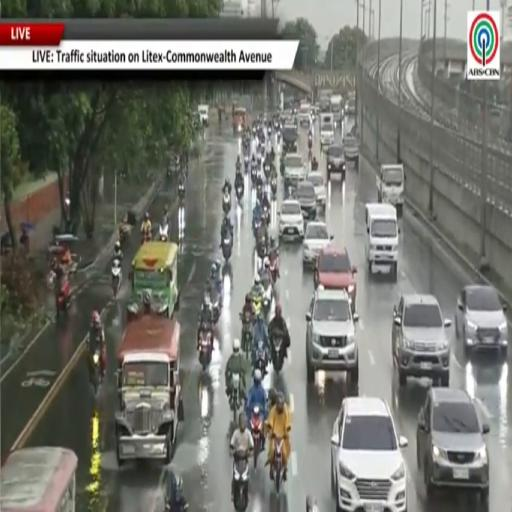car: (331, 397, 407, 511), (417, 388, 489, 502), (392, 294, 451, 387), (306, 287, 358, 385), (455, 285, 508, 357), (314, 246, 356, 312), (303, 221, 333, 265), (279, 200, 303, 238), (295, 180, 317, 220), (326, 144, 345, 181), (307, 171, 326, 207), (285, 153, 306, 184), (343, 134, 358, 163), (320, 123, 334, 151), (298, 103, 310, 125), (198, 104, 208, 126)
jeepney: (116, 315, 183, 466), (0, 446, 77, 511), (128, 242, 178, 319), (233, 107, 247, 134)
motorcycle: (233, 451, 248, 511), (251, 405, 263, 468), (271, 437, 284, 493), (229, 374, 242, 425), (198, 330, 212, 371), (240, 312, 252, 359), (91, 348, 102, 394), (56, 279, 70, 315), (254, 340, 267, 376), (273, 333, 284, 372), (111, 259, 121, 297), (257, 236, 268, 270), (263, 282, 272, 317), (212, 290, 221, 324), (222, 235, 232, 262), (165, 501, 188, 511), (270, 255, 278, 283), (222, 191, 231, 215), (262, 204, 270, 226), (159, 224, 168, 242), (253, 219, 261, 237), (236, 185, 244, 202), (256, 182, 263, 201), (251, 164, 257, 186), (141, 232, 151, 245), (271, 176, 277, 197), (270, 146, 276, 165), (179, 184, 185, 202), (264, 163, 270, 180), (280, 160, 285, 177), (245, 156, 249, 173), (308, 136, 312, 151), (267, 126, 272, 137), (277, 130, 281, 143), (236, 162, 241, 172)
truck: (377, 164, 404, 214), (330, 94, 344, 126), (318, 90, 332, 113), (345, 91, 356, 115)
